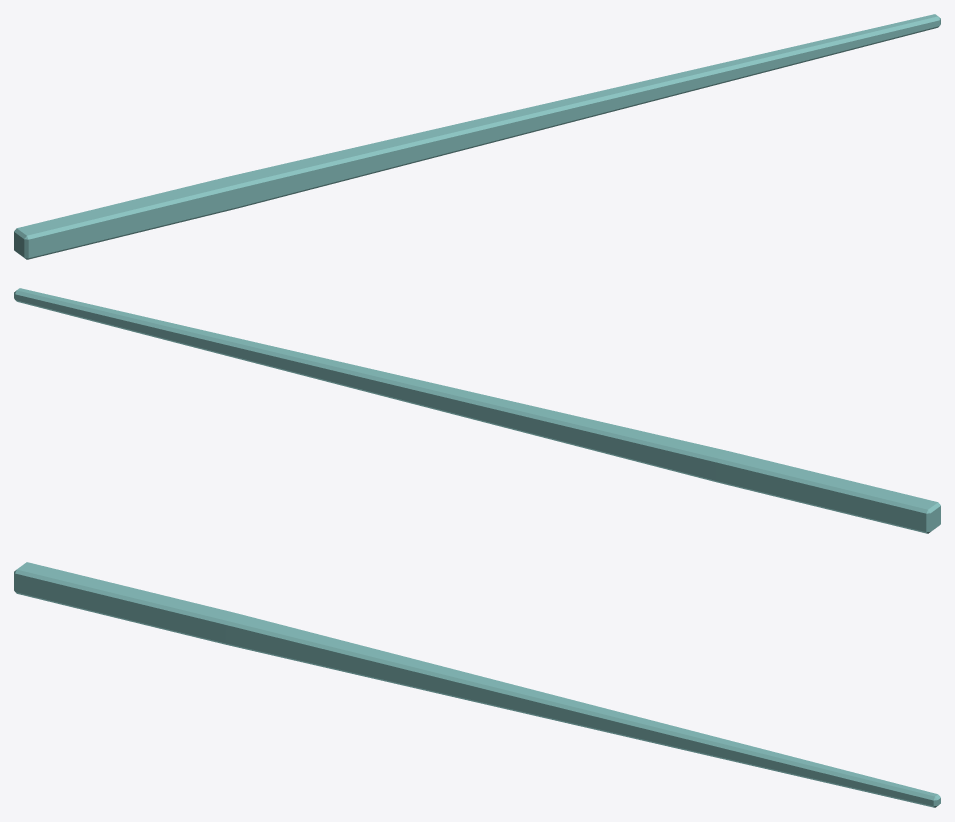
The model's file is chopsticks 2.fbx.
3 renders of one model, top to bottom at view 1: azimuth 30°, elevation 25°; view 2: azimuth 150°, elevation 25°; view 3: azimuth 330°, elevation 25°, orthographic.
Parts seen in each view (by area): view 1: pCube209; view 2: pCube209; view 3: pCube209.
Boxes of the visible parts, x1,y1,x2,y2 form: pCube209: (14, 14, 940, 259); pCube209: (14, 288, 940, 533); pCube209: (14, 562, 940, 807).
Size of the model in its own units: 0.3257 by 0.00819 by 0.00819.
